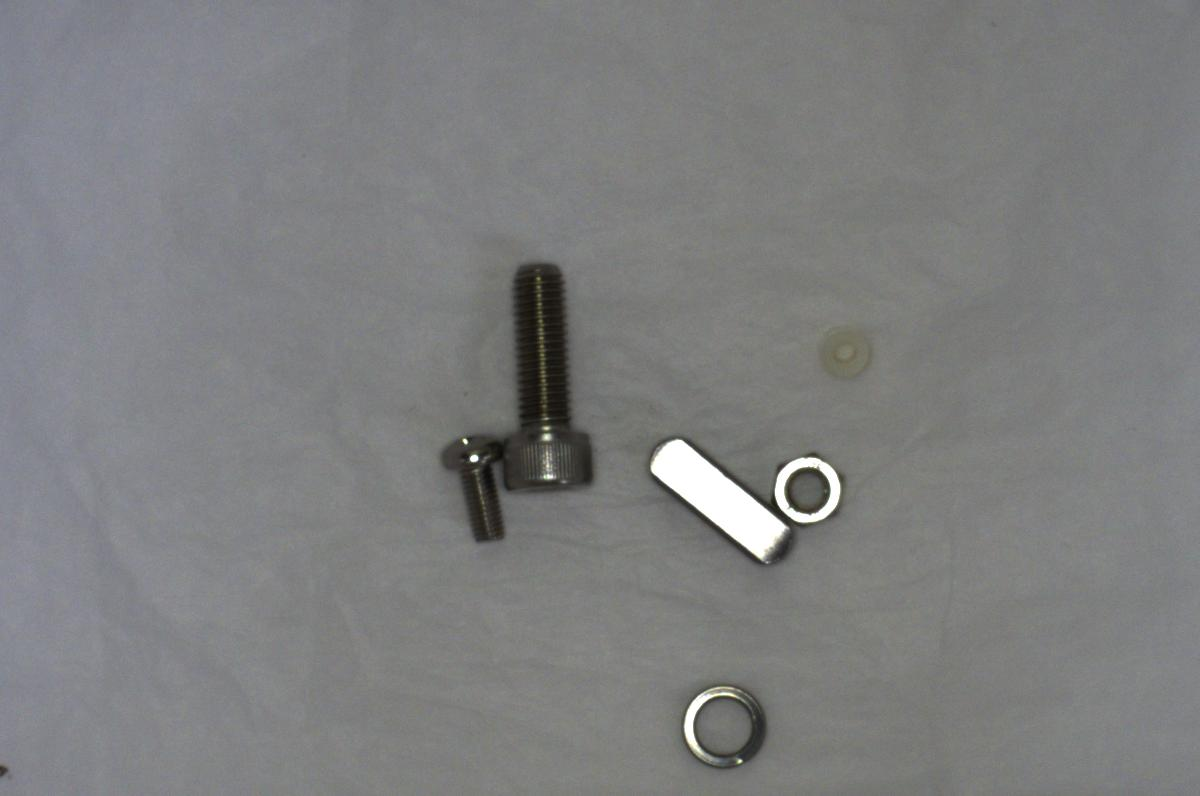Hexagon nut: (751, 446, 846, 532)
Hexagon screw: (496, 248, 601, 503)
Keybar: (630, 421, 791, 567)
Plastic cushion pillar: (806, 317, 882, 391)
Round head screw: (432, 426, 514, 548)
Spring washer: (665, 659, 778, 785)
